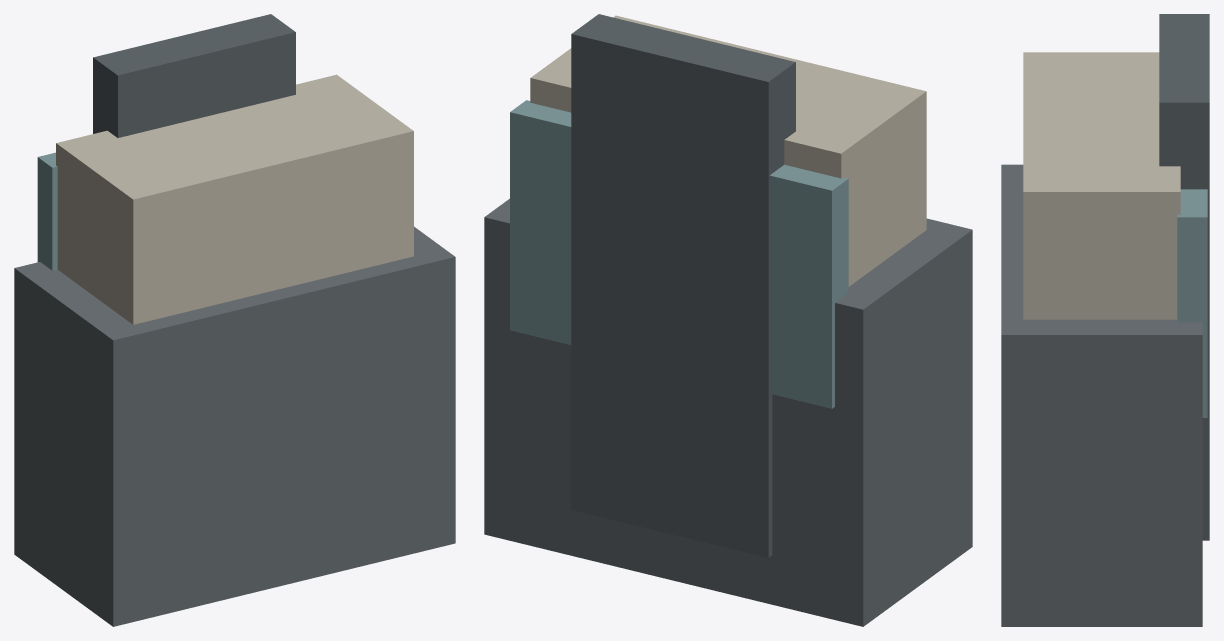
Rendered from iz3_build_defense_alarm_01.glb.
The picture shows the model from 3 angles, left to right: view 1: azimuth 30°, elevation 25°; view 2: azimuth 150°, elevation 25°; view 3: azimuth 270°, elevation 25°; orthographic projection. The views are drawn at different scales.
Parts seen in each view (by area): view 1: base, cabinet, panel, display; view 2: panel, base, display, cabinet; view 3: base, cabinet, panel, display.
Part boxes in pixels (box(x1,y1,x2,y2)): base: box(14, 226, 455, 626); cabinet: box(56, 74, 413, 324); panel: box(93, 14, 295, 137); display: box(37, 152, 57, 270); panel: box(571, 14, 795, 557); base: box(484, 198, 972, 626); display: box(510, 100, 848, 408); cabinet: box(530, 15, 926, 286); base: box(1001, 164, 1202, 626); cabinet: box(1023, 52, 1180, 319); panel: box(1159, 14, 1209, 540); display: box(1177, 189, 1207, 417).
Bounding box in the file's own units: 0.4 × 0.53 × 0.207.
